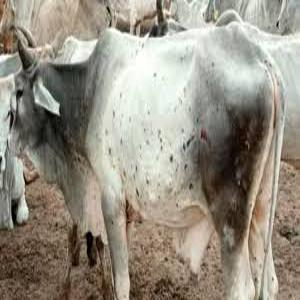lumpy skin diesease: (2, 12, 288, 299)
